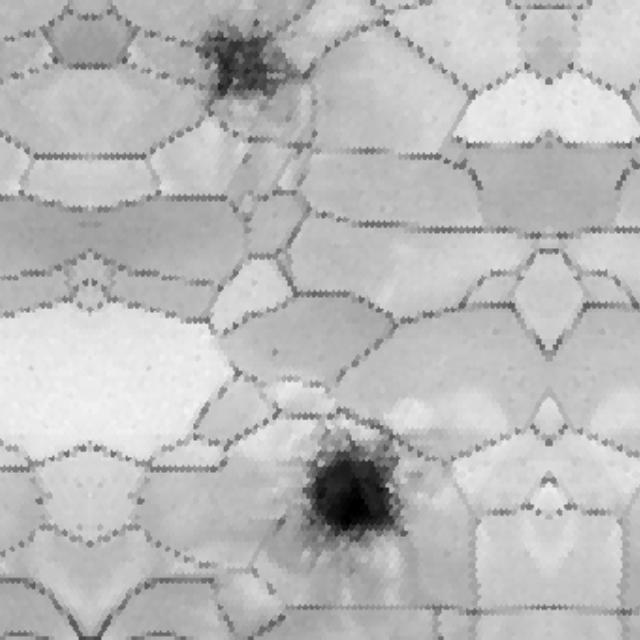good_void: (289, 417, 417, 566), (190, 6, 319, 117), (272, 509, 289, 536), (127, 491, 148, 509), (34, 491, 54, 509), (266, 347, 281, 359)
